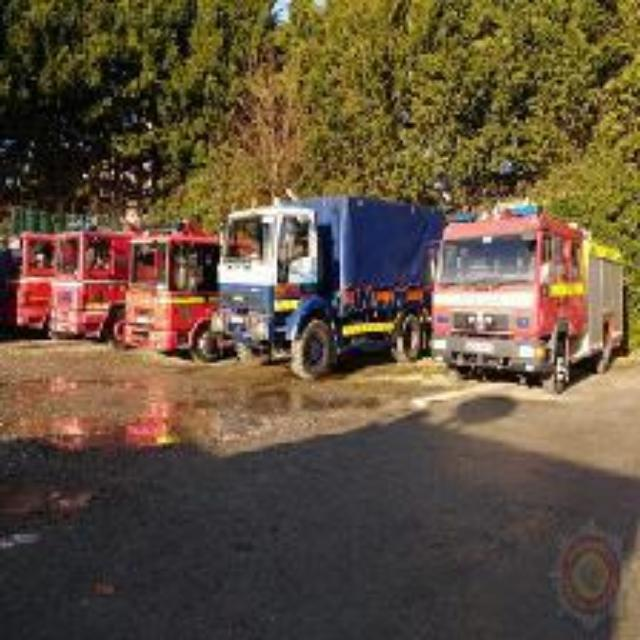emergency: (210, 200, 456, 372), (428, 219, 600, 361), (123, 238, 214, 356), (65, 232, 107, 356), (8, 230, 59, 332)
